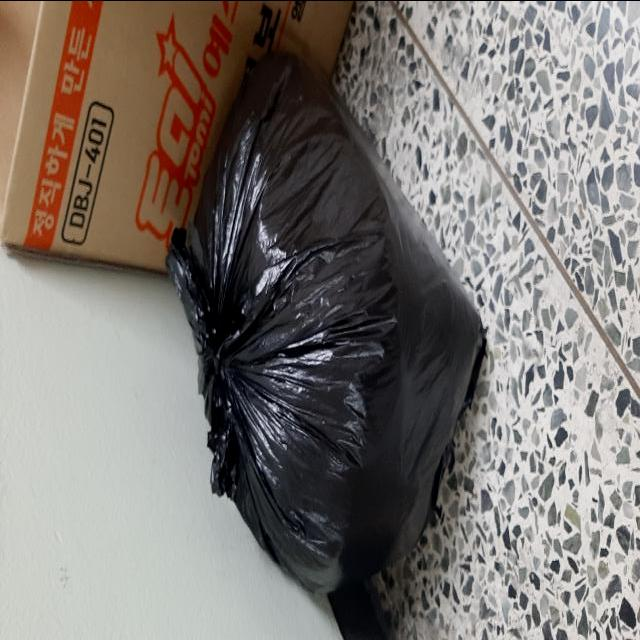black_bag: (165, 41, 488, 598)
